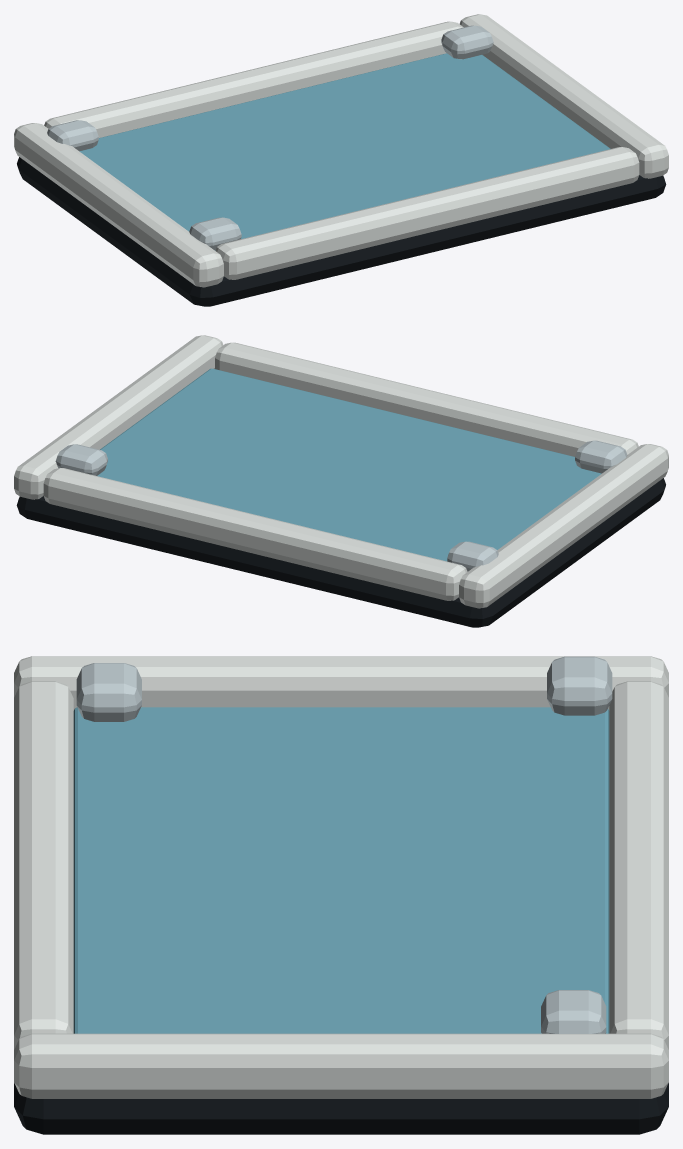
3 renders of one model, top to bottom at view 1: azimuth 30°, elevation 25°; view 2: azimuth 150°, elevation 25°; view 3: azimuth 270°, elevation 25°, orthographic. The views are drawn at different scales.
Visible parts, largest first — view 1: WATER, SHORE_Short, BASIN, SHORE_Short.001, SHORE_Long, SHORE_Long.001, BANK_Stone.002, BANK_Stone, BANK_Stone.001; view 2: WATER, SHORE_Short.001, BASIN, SHORE_Short, SHORE_Long, SHORE_Long.001, BANK_Stone, BANK_Stone.002, BANK_Stone.001; view 3: WATER, SHORE_Long.001, SHORE_Long, BASIN, SHORE_Short, SHORE_Short.001, BANK_Stone.001, BANK_Stone, BANK_Stone.002.
Part boxes in pixels (x1=…): WATER: x1=79, y1=53, x2=610, y2=250; SHORE_Short: x1=215, y1=147, x2=639, y2=279; BASIN: x1=17, y1=157, x2=666, y2=306; SHORE_Short.001: x1=44, y1=21, x2=463, y2=137; SHORE_Long: x1=14, y1=123, x2=223, y2=287; SHORE_Long.001: x1=459, y1=14, x2=668, y2=178; BANK_Stone.002: x1=441, y1=25, x2=493, y2=59; BANK_Stone: x1=189, y1=217, x2=241, y2=250; BANK_Stone.001: x1=47, y1=120, x2=98, y2=151; WATER: x1=97, y1=368, x2=601, y2=561; SHORE_Short.001: x1=43, y1=468, x2=467, y2=600; BASIN: x1=16, y1=478, x2=665, y2=627; SHORE_Short: x1=215, y1=342, x2=638, y2=456; SHORE_Long: x1=459, y1=444, x2=668, y2=608; SHORE_Long.001: x1=14, y1=335, x2=223, y2=499; BANK_Stone: x1=575, y1=440, x2=627, y2=473; BANK_Stone.002: x1=55, y1=444, x2=107, y2=475; BANK_Stone.001: x1=447, y1=541, x2=498, y2=571; WATER: x1=73, y1=707, x2=609, y2=1033; SHORE_Long.001: x1=14, y1=1033, x2=668, y2=1098; SHORE_Long: x1=14, y1=656, x2=668, y2=710; BASIN: x1=14, y1=1083, x2=668, y2=1134; SHORE_Short: x1=14, y1=681, x2=73, y2=1049; SHORE_Short.001: x1=609, y1=681, x2=668, y2=1049; BANK_Stone.001: x1=547, y1=656, x2=612, y2=715; BANK_Stone: x1=76, y1=663, x2=141, y2=721; BANK_Stone.002: x1=541, y1=990, x2=606, y2=1033.
Bounding box in the file's own units: 3.2 × 0.4 × 2.2.
